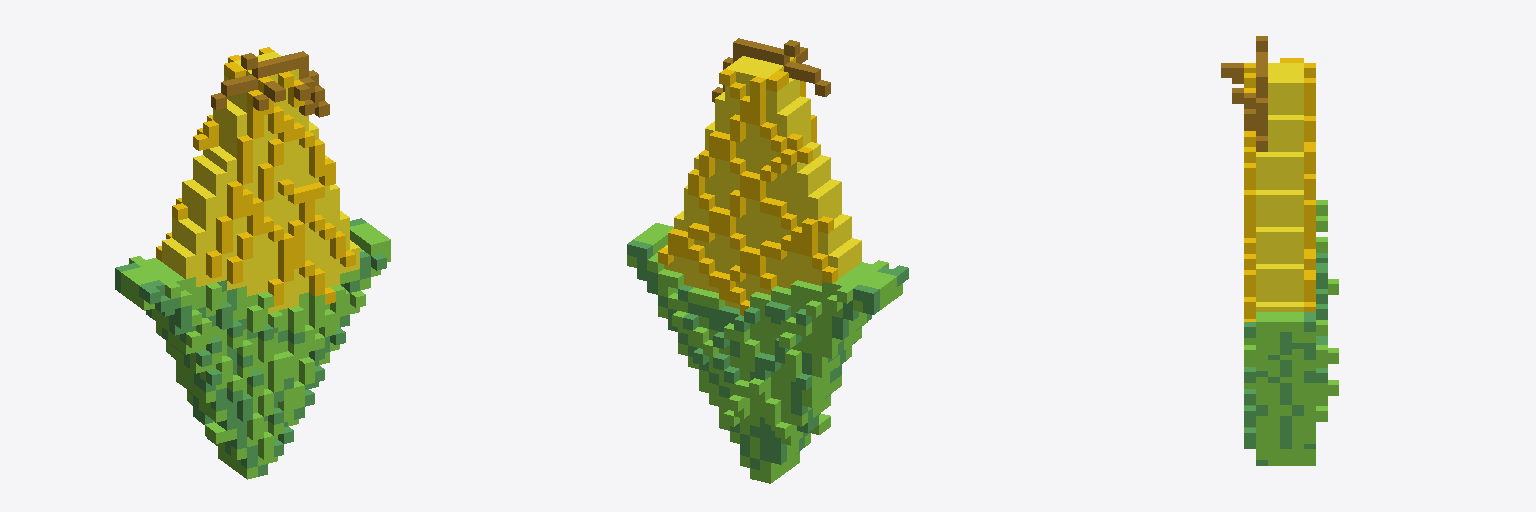
3 renders of one model, left to right at view 1: azimuth 30°, elevation 25°; view 2: azimuth 150°, elevation 25°; view 3: azimuth 270°, elevation 25°, orthographic.
Visible parts, largest first — view 1: object 1; view 2: object 1; view 3: object 1.
Boxes of the visible parts, box(x1,y1,x2,y2) form: object 1: box(115, 47, 390, 479); object 1: box(627, 38, 908, 483); object 1: box(1221, 36, 1338, 465).
Size of the model in its own units: 2.4 by 3.9 by 1.
1 materials, 1 textured.